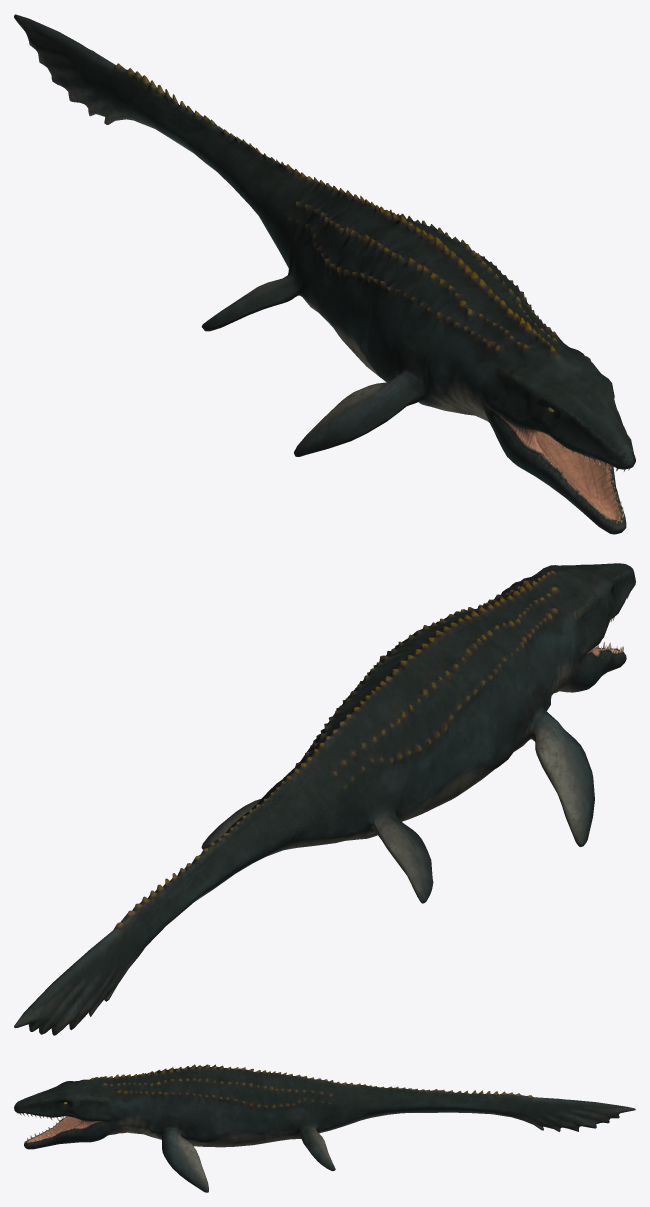
File: leviathan.glb
3 views of the same model, one above another, from view 1: azimuth 30°, elevation 25°; view 2: azimuth 150°, elevation 25°; view 3: azimuth 270°, elevation 25° (orthographic). The views are drawn at different scales.
Bounding box in the file's own units: 106 × 63.96 × 389.
1 material, 1 textured.
